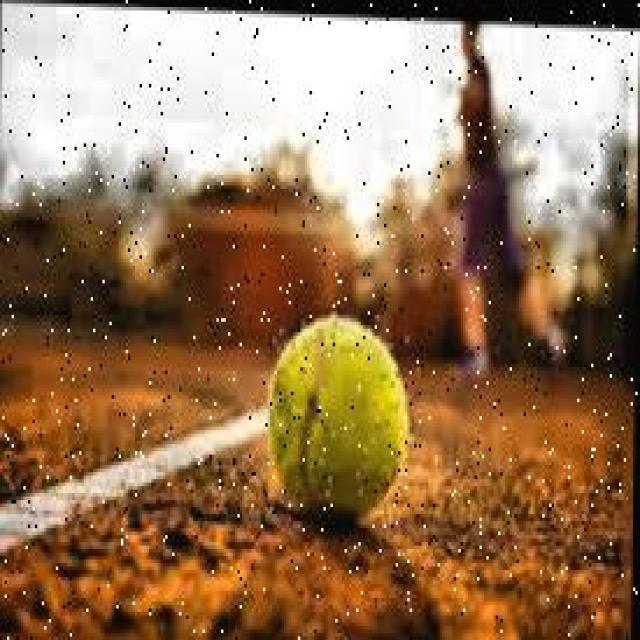tennis-ball: (268, 303, 430, 526)
